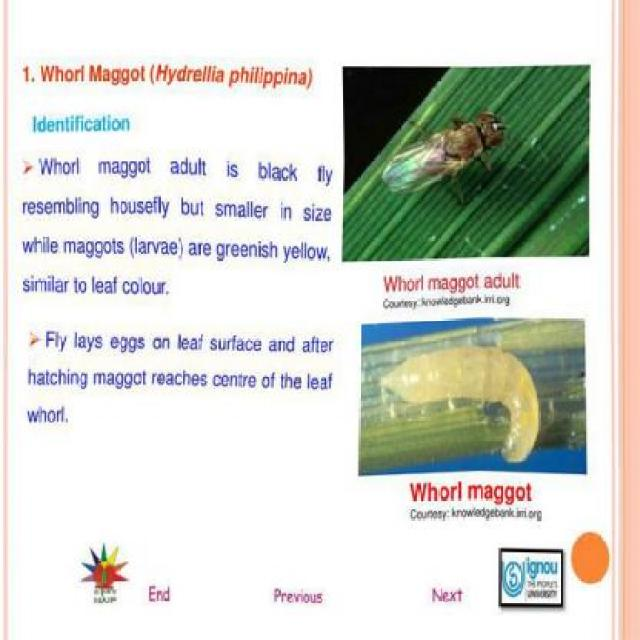whorl-maggot: (371, 339, 549, 466)
